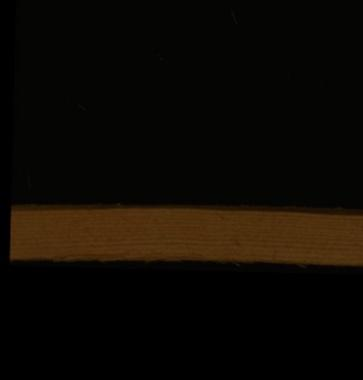wave: (9, 247, 307, 263)
